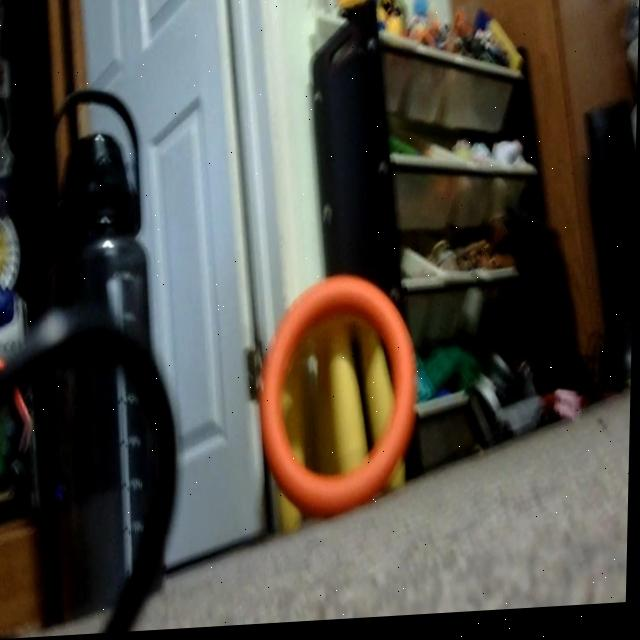note: (264, 274, 422, 516)
